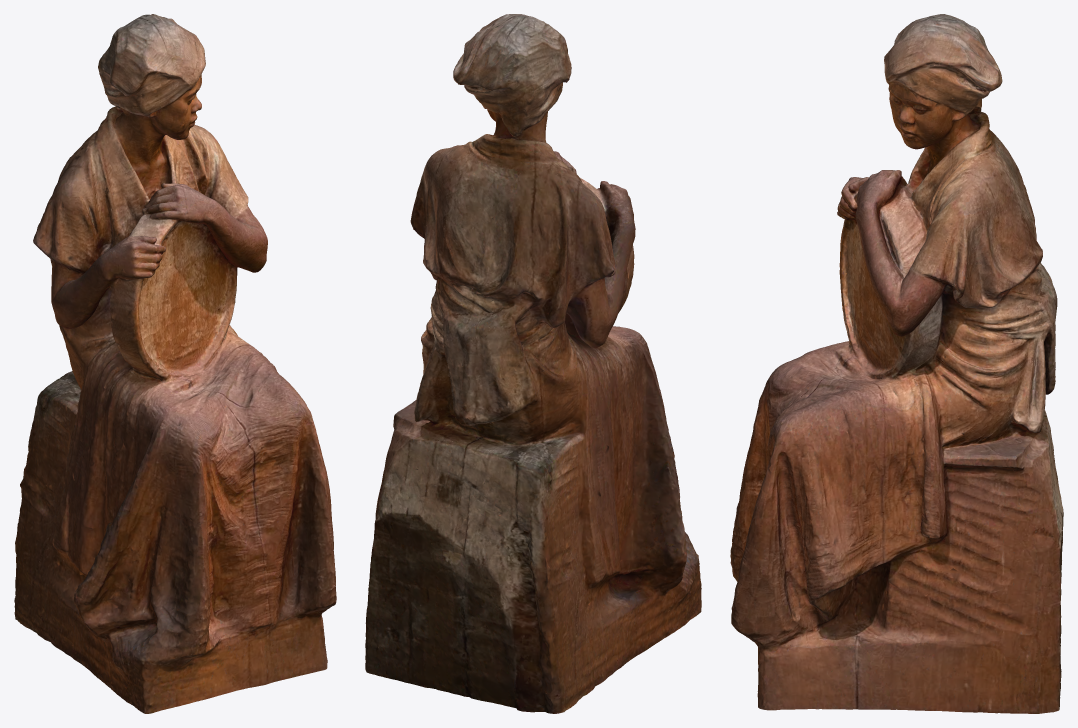
Rendered from preview.glb.
3 renders of one model, left to right at view 1: azimuth 30°, elevation 25°; view 2: azimuth 150°, elevation 25°; view 3: azimuth 270°, elevation 25°, orthographic. The views are drawn at different scales.
Parts seen in each view (by area): view 1: Object_2; view 2: Object_2; view 3: Object_2.
Part boxes in pixels (x1,y1,x2,y2): Object_2: (14,14,336,713); Object_2: (365,14,701,713); Object_2: (730,14,1063,713).
Bounding box in the file's own units: 10.39 × 26.28 × 12.27.
1 material, 1 textured.
